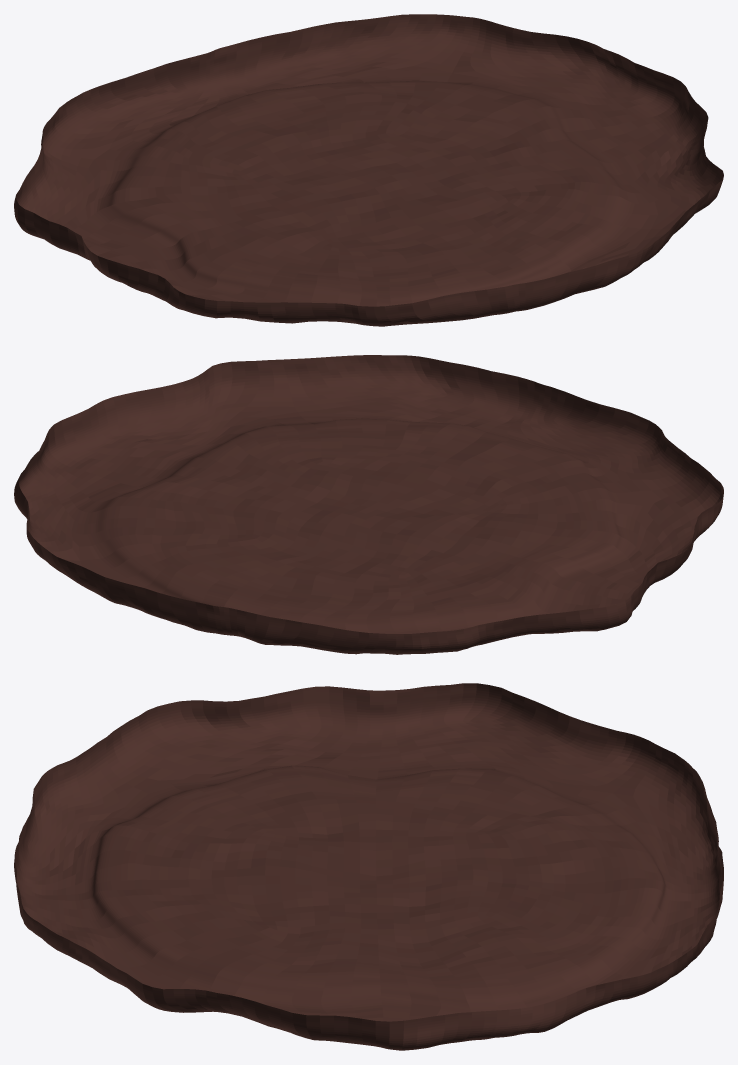
The model's file is CaveFloor.fbx.
The picture shows the model from 3 angles, top to bottom: view 1: azimuth 30°, elevation 25°; view 2: azimuth 150°, elevation 25°; view 3: azimuth 270°, elevation 25°; orthographic projection. The views are drawn at different scales.
Visible parts, largest first — view 1: Plane.003; view 2: Plane.003; view 3: Plane.003.
Boxes of the visible parts, bbox=[...] form: Plane.003: bbox=[14, 14, 723, 326]; Plane.003: bbox=[14, 355, 723, 654]; Plane.003: bbox=[14, 683, 723, 1050].
Size of the model in its own units: 1484 by 86.48 by 1313.
